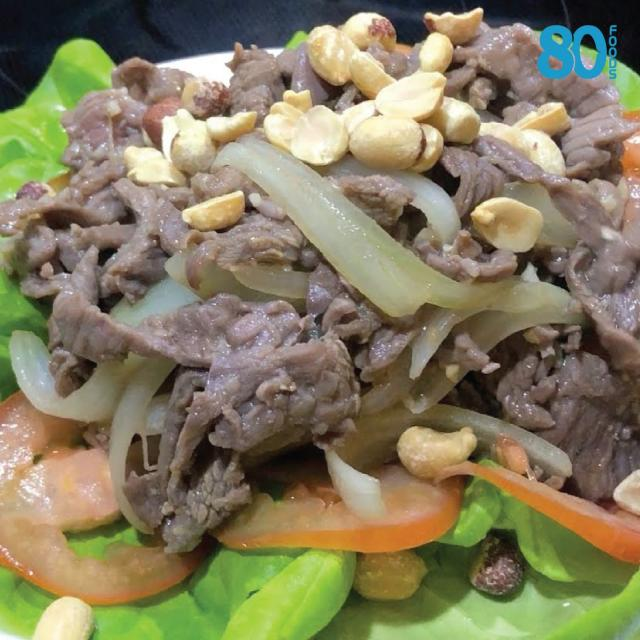bo xao: (0, 9, 640, 552)
